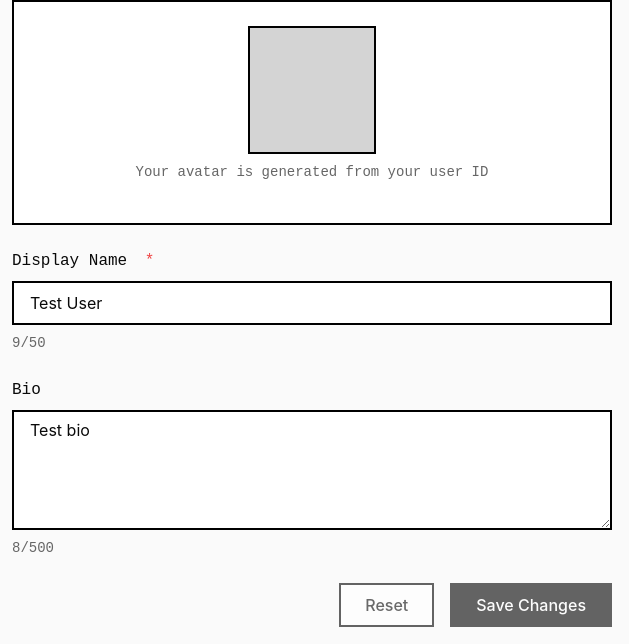
Test: ProfileForm › Validation › validates display name maximum length
This screenshot has width=629, height=644.
Replace the text in the field with id "display-name" with "AAAAAAAAAAAAAAAAAAAAAAAAAAAAAAAAAAAAAAAAAAAAAAAAAAA". click: (312, 303)
box: top-left (12, 281), bottom-right (612, 325)
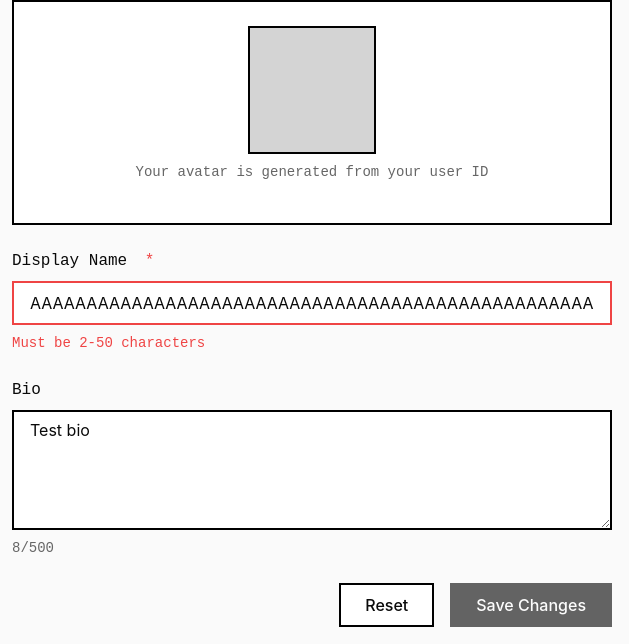
Now the text "Must be 2-50 characters" is shown, box top-left (12, 333), bottom-right (205, 354)
